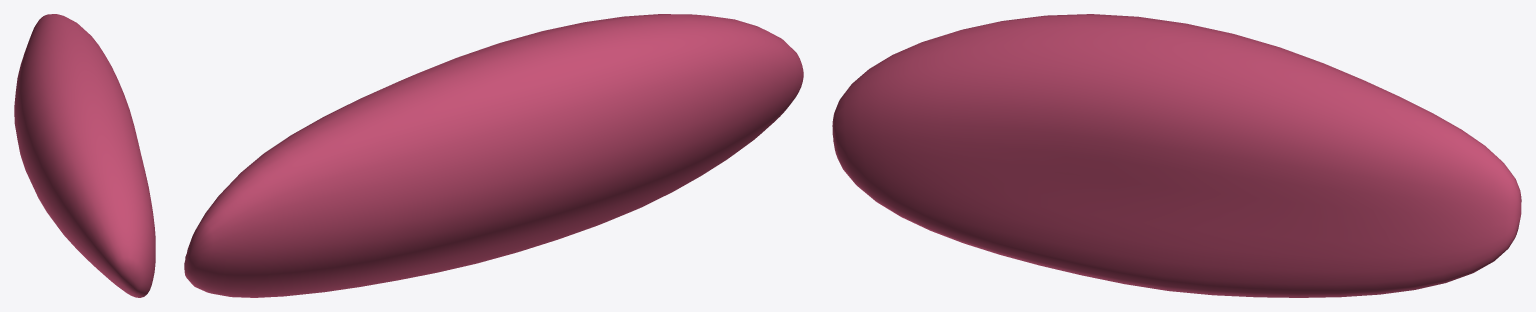
3 views of the same model, side by side, from view 1: azimuth 30°, elevation 25°; view 2: azimuth 150°, elevation 25°; view 3: azimuth 270°, elevation 25° (orthographic). The views are drawn at different scales.
Visible parts, largest first — view 1: 左侧大圆肌腱下囊; view 2: 左侧大圆肌腱下囊; view 3: 左侧大圆肌腱下囊.
Boxes of the visible parts, x1,y1,x2,y2 form: 左侧大圆肌腱下囊: (14, 14, 155, 297); 左侧大圆肌腱下囊: (184, 14, 803, 297); 左侧大圆肌腱下囊: (832, 14, 1521, 297).
Bounding box in the file's own units: 0.018 × 0.014 × 0.0385.
